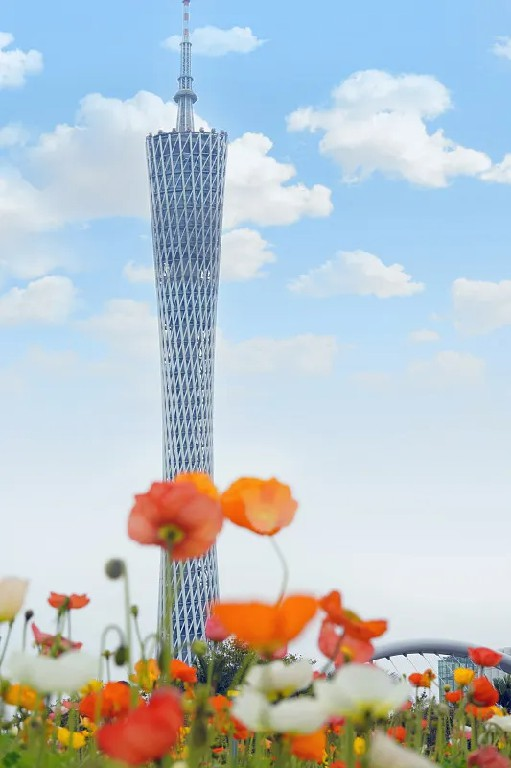Canton: (129, 1, 241, 723)
